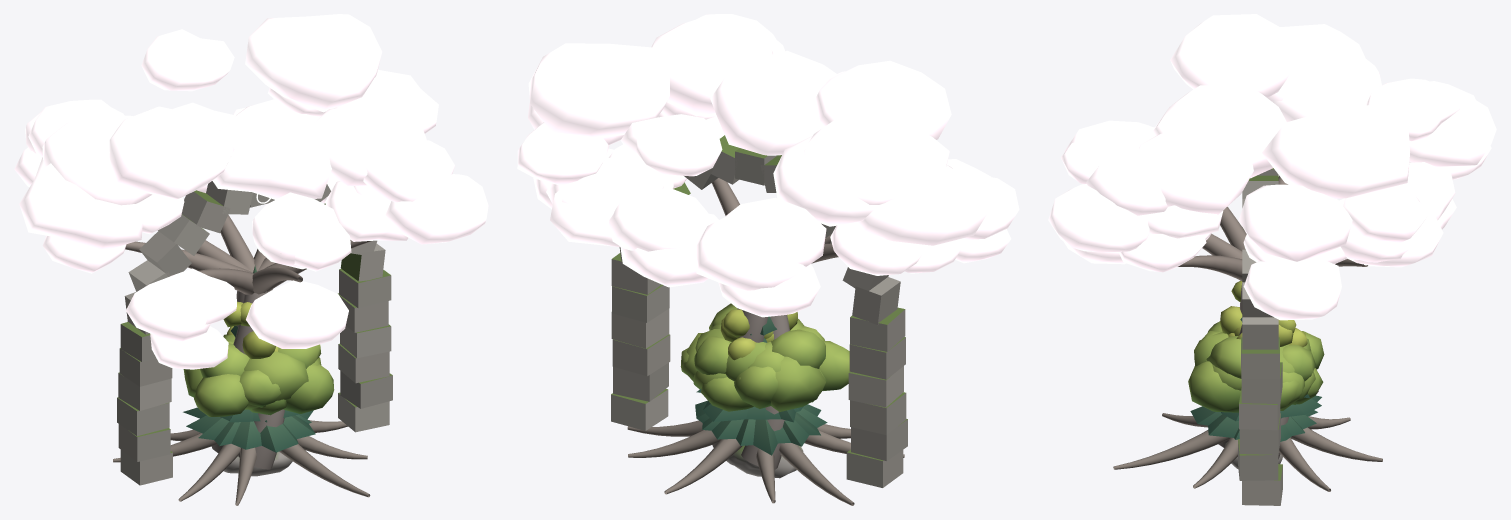
The model's file is stage1_props.glb.
3 views of the same model, side by side, from view 1: azimuth 30°, elevation 25°; view 2: azimuth 150°, elevation 25°; view 3: azimuth 270°, elevation 25° (orthographic). The views are drawn at different scales.
Parts seen in each view (by area): view 1: sacred_tree, ruin_arch, oak_a, oak_b, pine_a, pine_b, pine_c, oak_c, birch_b, rock_c; view 2: sacred_tree, ruin_arch, oak_a, oak_c, pine_a, oak_b, pine_b, pine_c, birch_a, rock_c; view 3: sacred_tree, ruin_arch, oak_c, oak_b, oak_a, pine_c, birch_b, pine_b, pine_a.
Part boxes in pixels (left/top/right/bottom): sacred_tree: left=14, top=14, right=488, bottom=505; ruin_arch: left=117, top=181, right=392, bottom=485; oak_a: left=183, top=341, right=321, bottom=416; oak_b: left=195, top=364, right=334, bottom=413; pine_a: left=183, top=266, right=313, bottom=449; pine_b: left=214, top=265, right=311, bottom=452; pine_c: left=186, top=267, right=315, bottom=438; oak_c: left=223, top=334, right=321, bottom=415; birch_b: left=240, top=302, right=275, bottom=359; rock_c: left=223, top=451, right=292, bottom=476; sacred_tree: left=517, top=14, right=1019, bottom=505; ruin_arch: left=611, top=135, right=907, bottom=487; oak_a: left=694, top=319, right=849, bottom=411; oak_c: left=680, top=303, right=778, bottom=408; pine_a: left=695, top=334, right=821, bottom=455; oak_b: left=695, top=329, right=826, bottom=411; pine_b: left=702, top=316, right=827, bottom=445; pine_c: left=696, top=338, right=809, bottom=446; birch_a: left=723, top=309, right=756, bottom=360; rock_c: left=726, top=445, right=803, bottom=478; sacred_tree: left=1048, top=14, right=1496, bottom=491; ruin_arch: left=1238, top=168, right=1282, bottom=505; oak_c: left=1206, top=331, right=1324, bottom=410; oak_b: left=1188, top=344, right=1323, bottom=412; oak_a: left=1194, top=321, right=1315, bottom=390; pine_c: left=1208, top=394, right=1316, bottom=440; birch_b: left=1220, top=280, right=1293, bottom=346; pine_b: left=1190, top=406, right=1317, bottom=439; pine_a: left=1240, top=317, right=1321, bottom=441.
Bounding box in the file's own units: 39.56 × 36.5 × 36.89.
